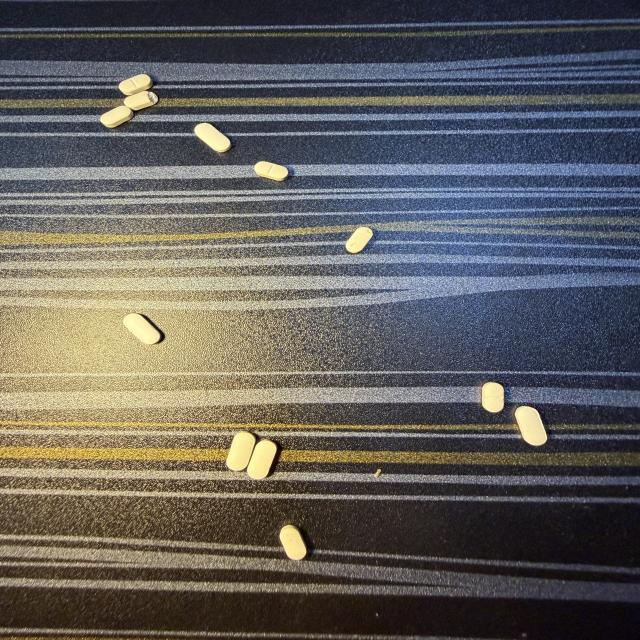pill: (515, 406, 547, 445), (247, 440, 277, 479), (123, 314, 161, 344), (227, 432, 256, 471), (195, 124, 231, 152), (280, 525, 307, 560), (119, 74, 152, 95), (346, 227, 372, 253), (101, 106, 133, 127), (254, 162, 288, 181), (482, 383, 504, 412), (124, 92, 158, 110), (374, 469, 381, 478)
